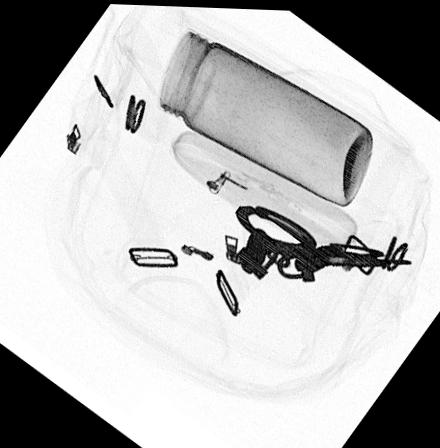HandCuffs: (223, 201, 418, 279)
